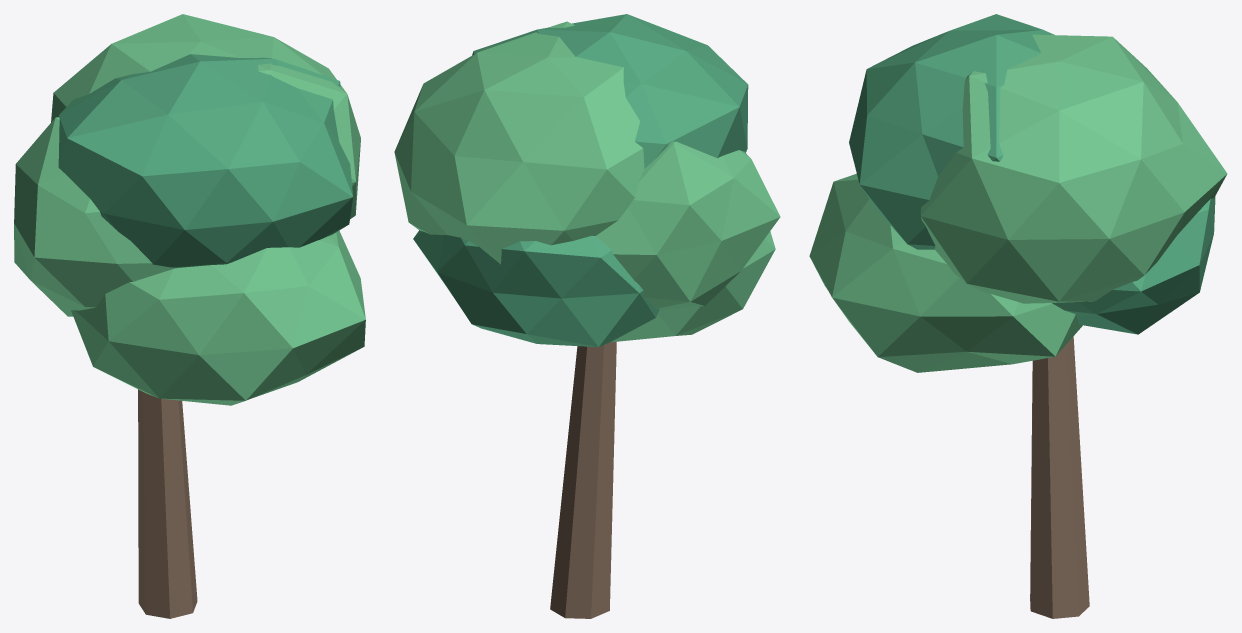
The model's file is Tree_Med_A.glb.
3 views of the same model, side by side, from view 1: azimuth 30°, elevation 25°; view 2: azimuth 150°, elevation 25°; view 3: azimuth 270°, elevation 25° (orthographic). The views are drawn at different scales.
Visible parts, largest first — view 1: Tree_Med_A; view 2: Tree_Med_A; view 3: Tree_Med_A.
Part boxes in pixels (bbox=[...]): Tree_Med_A: bbox=[14, 14, 365, 618]; Tree_Med_A: bbox=[394, 14, 780, 618]; Tree_Med_A: bbox=[809, 14, 1227, 618].
Bounding box in the file's own units: 3.77 × 6.06 × 4.01.
